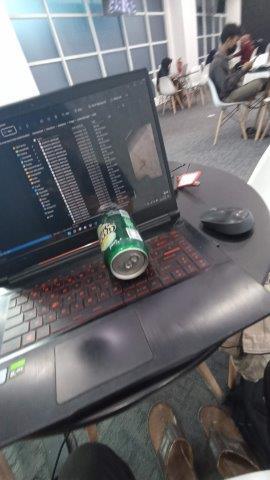kaleng: (97, 209, 149, 280)
